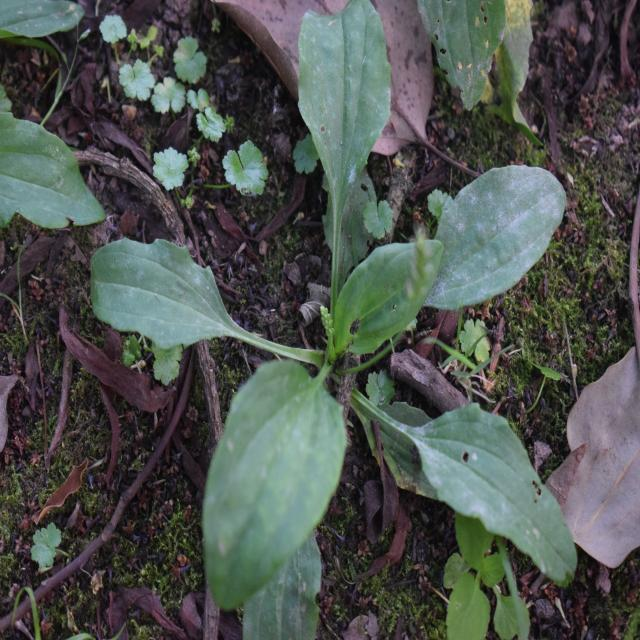plantain: (131, 46, 574, 568)
